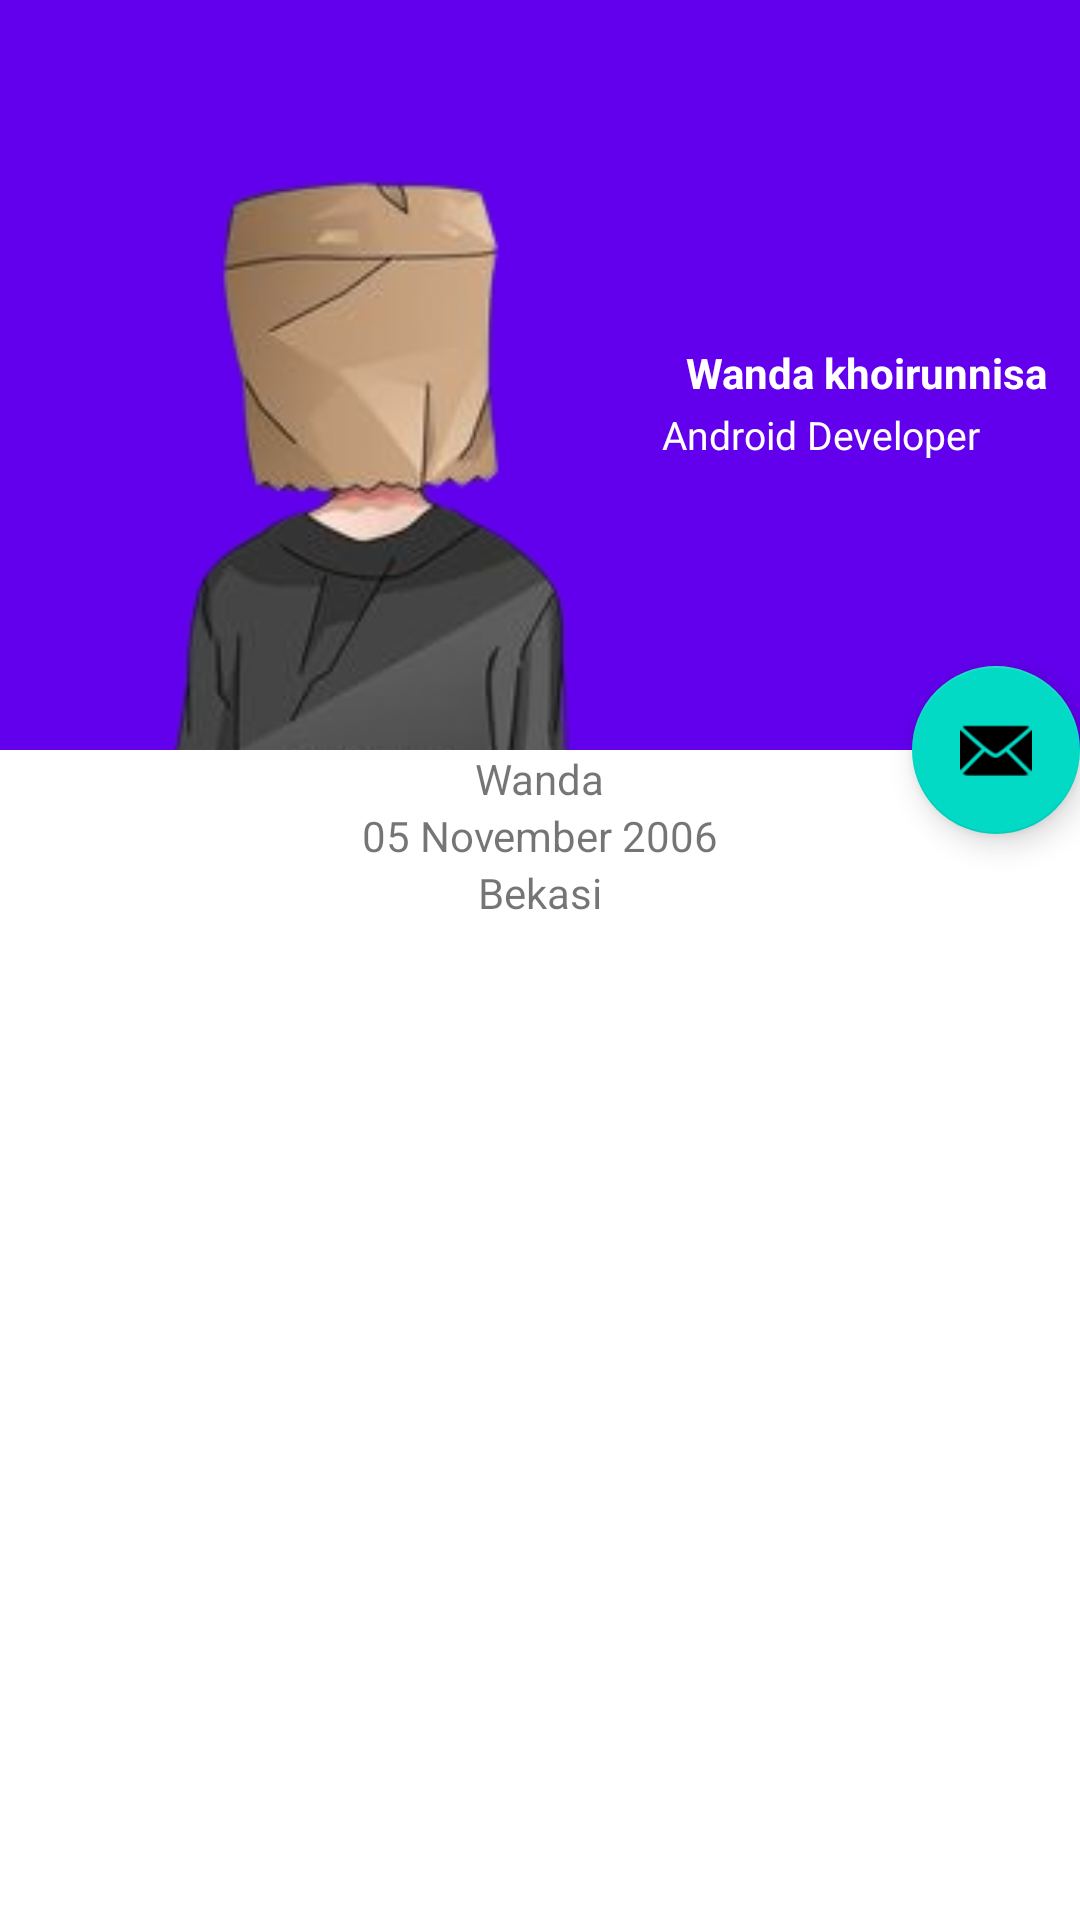

Named icons in this screenshot (1080px×1920px) and their centers, (x,y):
email: (996,750)
